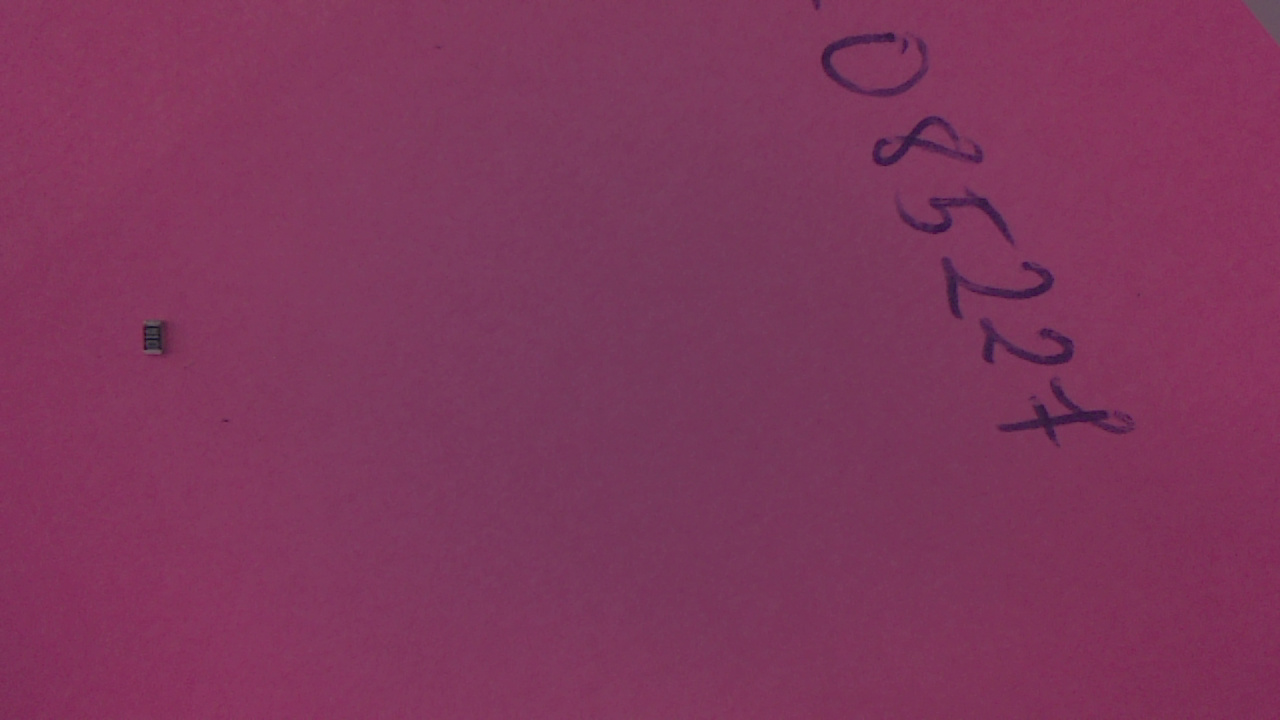Resistor: (146, 322, 174, 365)
